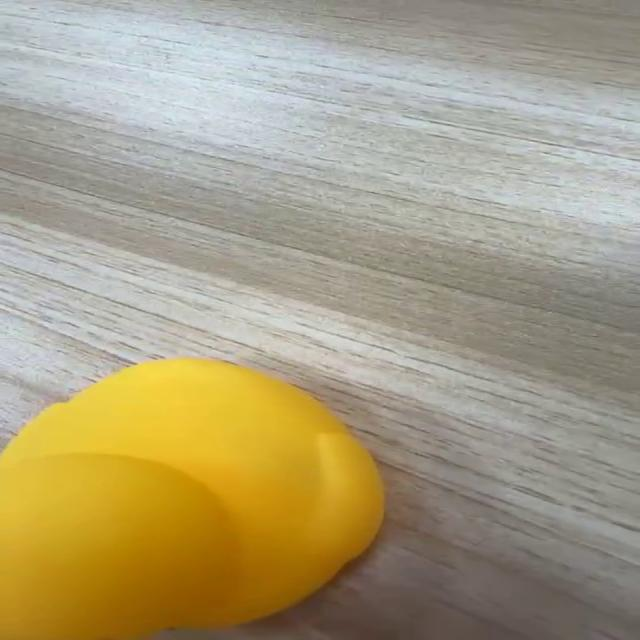yellow_duck: (0, 355, 386, 637)
